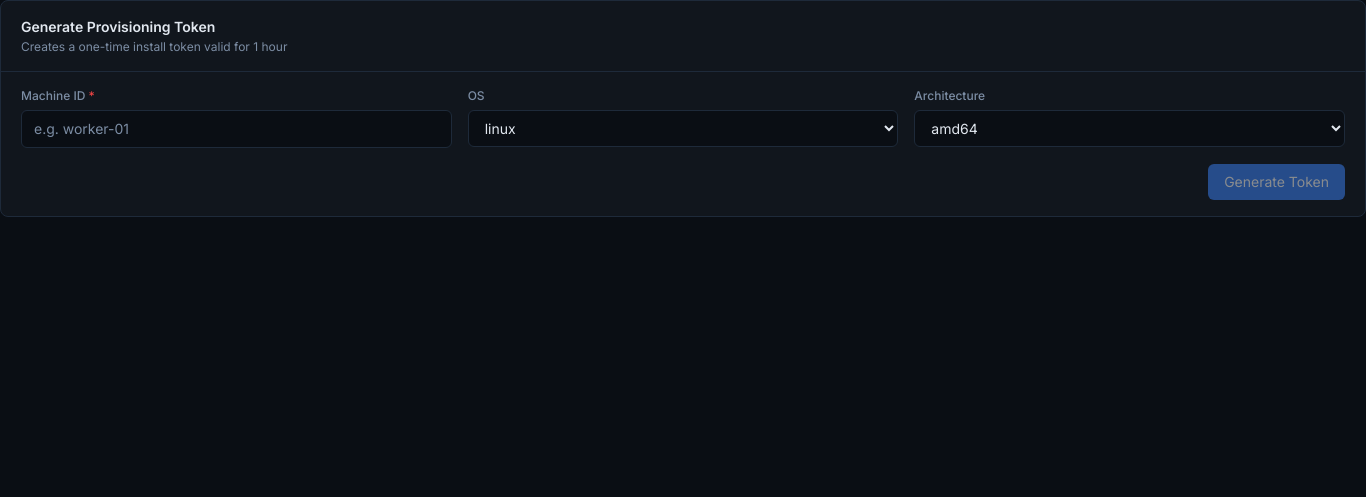
Test case: TokenGenerator › displays join command after successful generation
The width and height of the screenshot is (1366, 497).
Type "worker-1" into the field with placeholder "e.g. worker-01" at (236,129), box [21, 110, 452, 148]
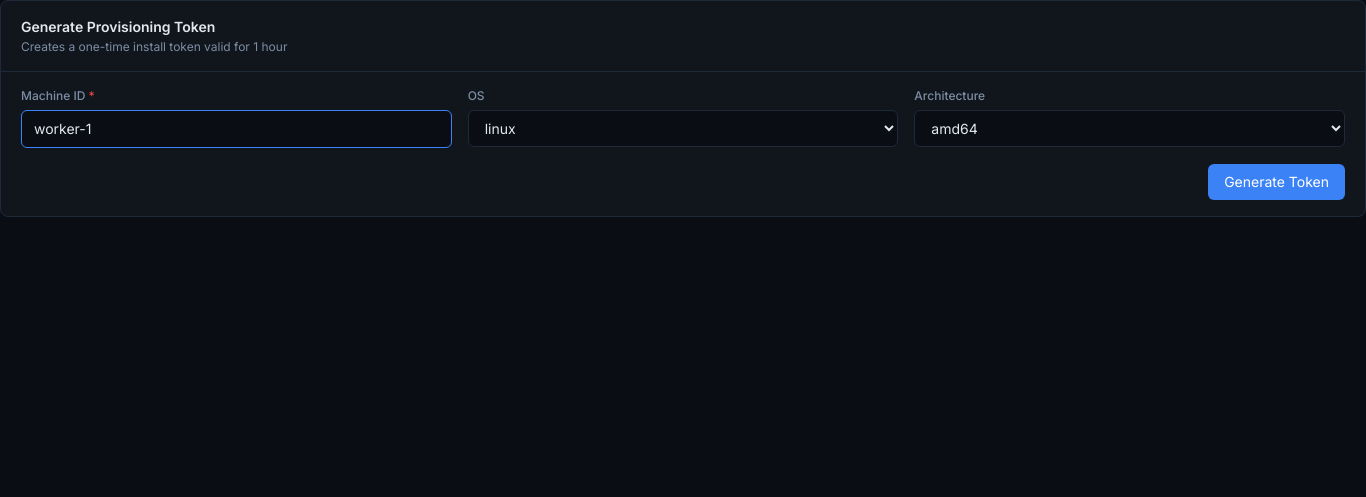
Click the button "Generate Token" at (1277,182), box [1208, 164, 1345, 200]
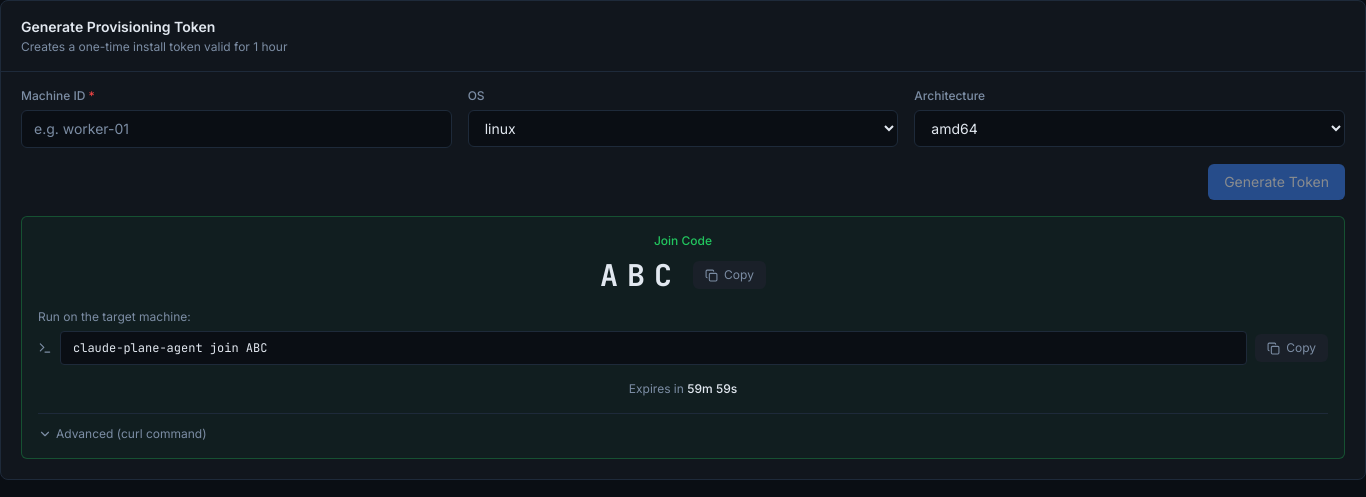
Expected: the text "claude-plane-agent join ABC" is shown, [60, 331, 1247, 365]
Expected: the text "Run on the target machine:" is shown, [38, 309, 191, 324]
